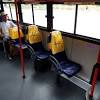seat: (48, 33, 80, 76)
